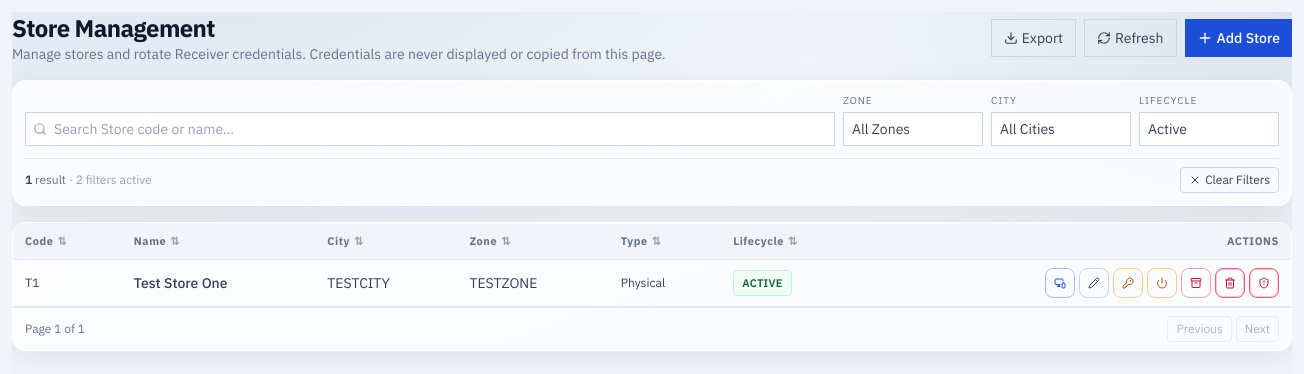
Test: the Zone and City options come from the server, not from the visible page
The image size is (1304, 374).
Click the button with test id "stores-zone" at (913, 129), box [843,112,983,146]
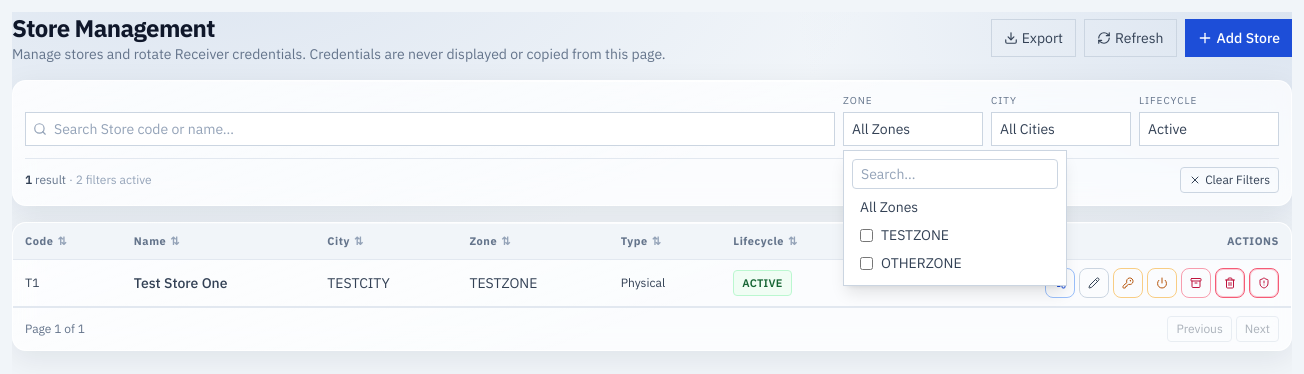
Result: the checkbox with test id "stores-zone-option-OTHERZONE" is shown at [860,256,873,270]
Click the button with test id "stores-city" at (1061, 129), box [991,112,1131,146]
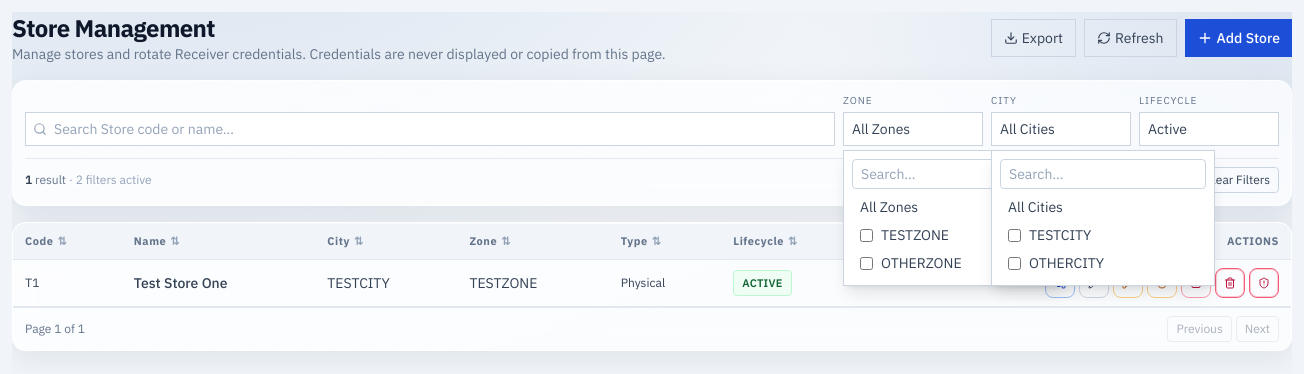
Result: the checkbox with test id "stores-city-option-OTHERCITY" is shown at [1008,256,1021,270]
